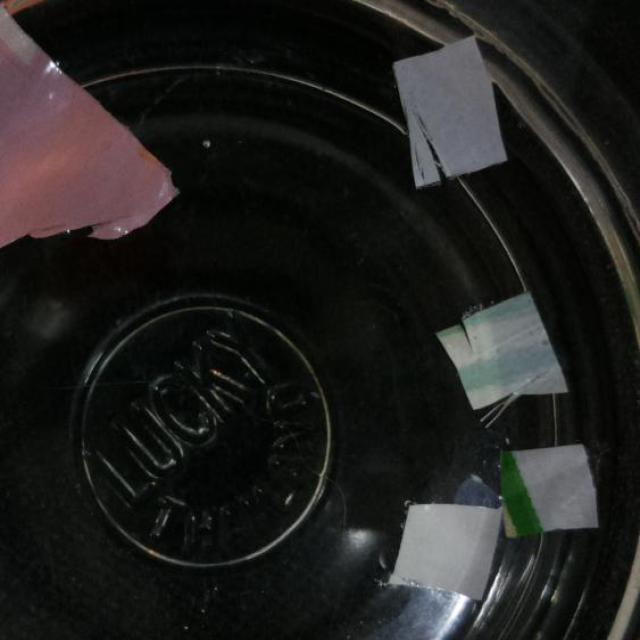fiber: (0, 0, 184, 248), (390, 30, 515, 189), (431, 296, 576, 414), (383, 496, 504, 600), (494, 443, 612, 534)
